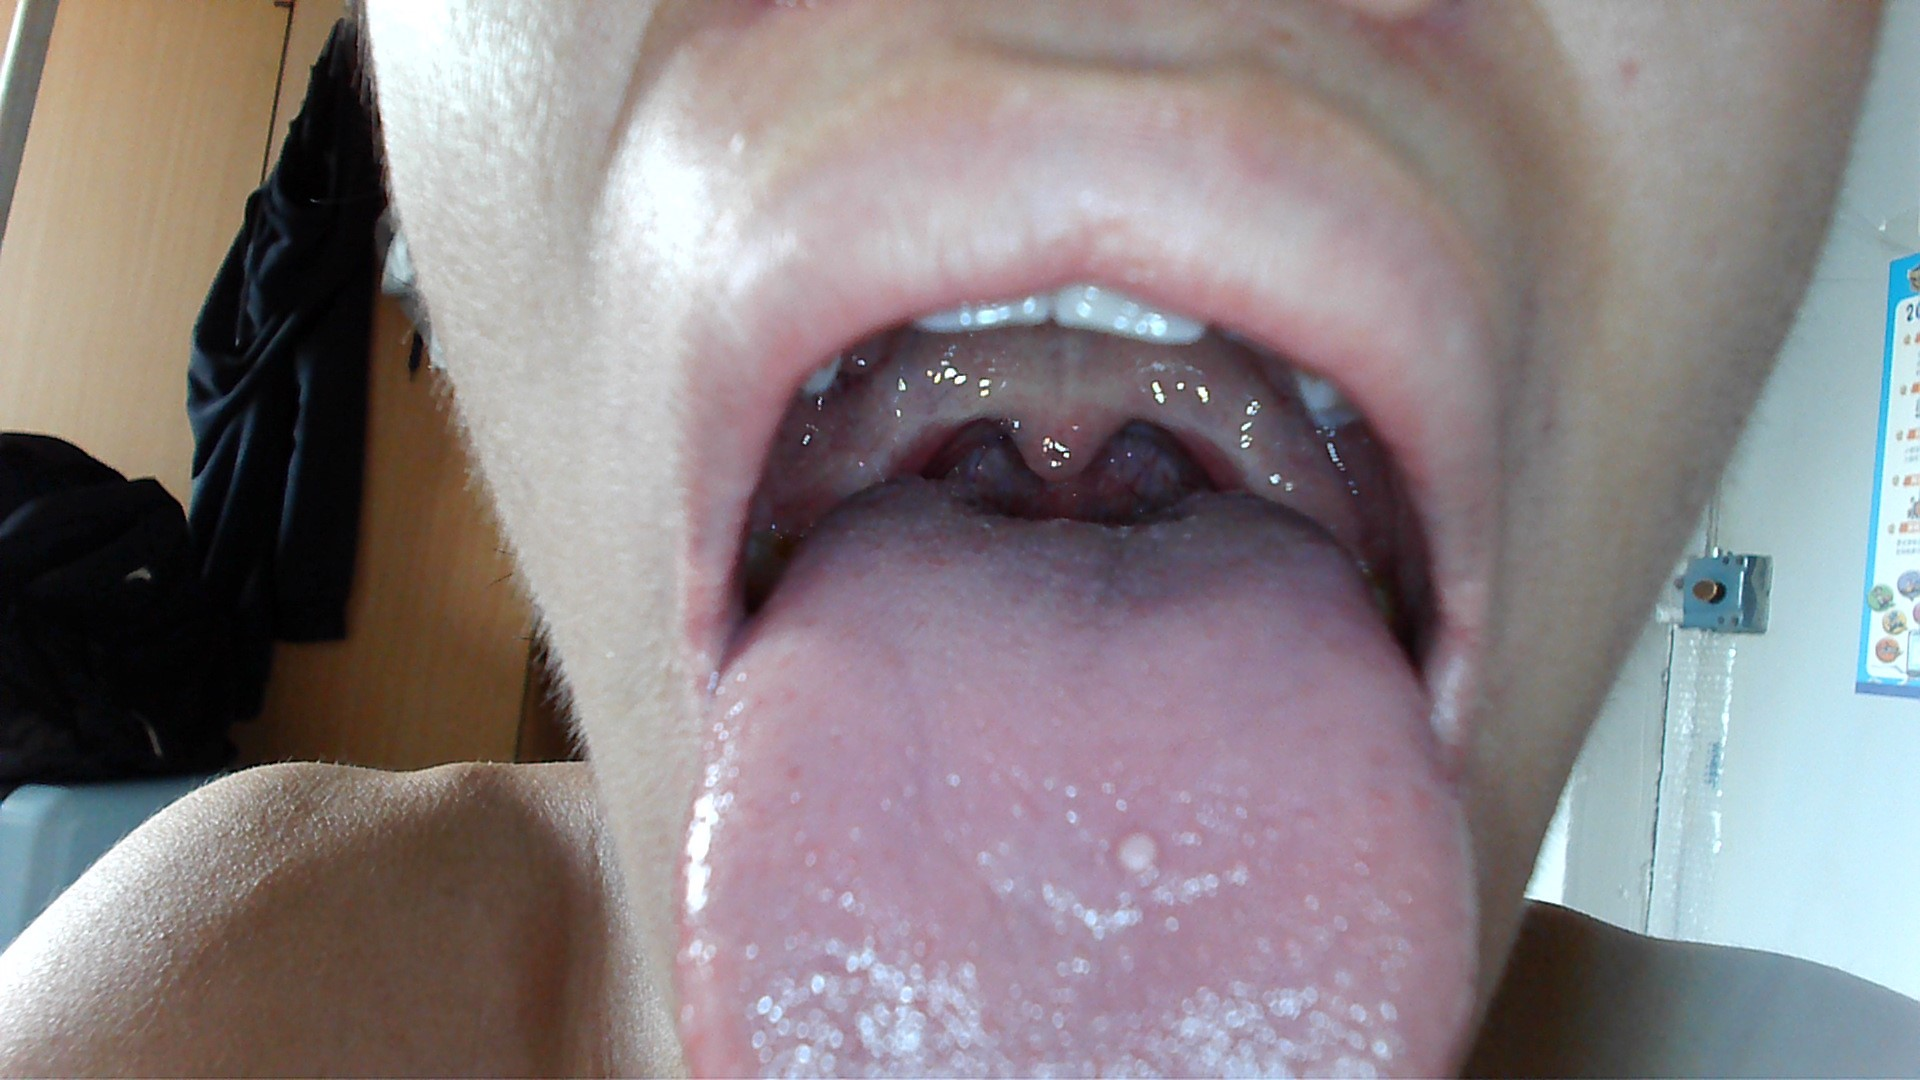throat: (1182, 396, 1278, 496), (847, 404, 945, 480)
